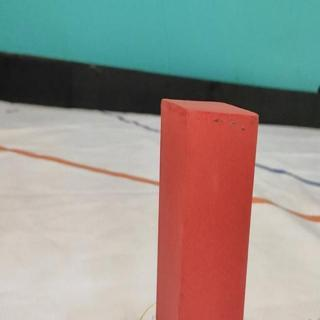redbox: (157, 97, 260, 320)
